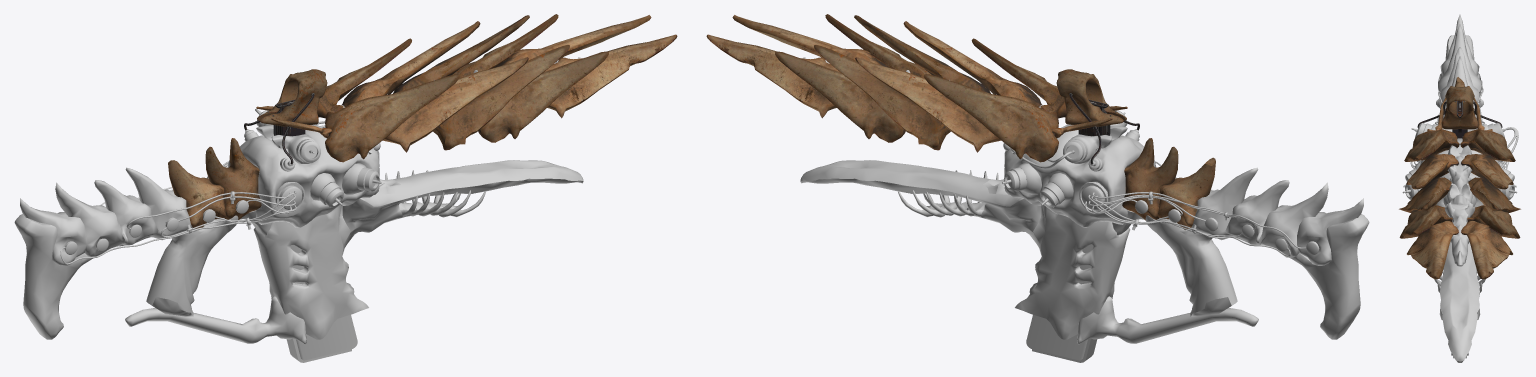
The model's file is onethousandvoices.obj.
The picture shows the model from 3 angles, left to right: view 1: azimuth 30°, elevation 25°; view 2: azimuth 150°, elevation 25°; view 3: azimuth 270°, elevation 25°; orthographic projection. The views are drawn at different scales.
Visible parts, largest first — view 1: Mesh_0000.rip, Mesh_0002.rip_Mesh_0002.rip.001, Mesh_0003.rip_Mesh_0003.rip.001, Mesh_0001.rip_Mesh_0001.rip.001; view 2: Mesh_0000.rip, Mesh_0003.rip_Mesh_0003.rip.001, Mesh_0002.rip_Mesh_0002.rip.001, Mesh_0001.rip_Mesh_0001.rip.001; view 3: Mesh_0000.rip, Mesh_0002.rip_Mesh_0002.rip.001, Mesh_0003.rip_Mesh_0003.rip.001, Mesh_0001.rip_Mesh_0001.rip.001.
Boxes of the visible parts, x1,y1,x2,y2 form: Mesh_0000.rip: (14, 57, 583, 362); Mesh_0002.rip_Mesh_0002.rip.001: (325, 34, 677, 162); Mesh_0003.rip_Mesh_0003.rip.001: (317, 14, 651, 118); Mesh_0001.rip_Mesh_0001.rip.001: (168, 69, 331, 228); Mesh_0000.rip: (800, 57, 1369, 362); Mesh_0003.rip_Mesh_0003.rip.001: (706, 34, 1058, 162); Mesh_0002.rip_Mesh_0002.rip.001: (732, 14, 1066, 118); Mesh_0001.rip_Mesh_0001.rip.001: (1052, 69, 1215, 229); Mesh_0000.rip: (1402, 14, 1518, 362); Mesh_0002.rip_Mesh_0002.rip.001: (1399, 129, 1459, 279); Mesh_0003.rip_Mesh_0003.rip.001: (1460, 129, 1520, 279); Mesh_0001.rip_Mesh_0001.rip.001: (1417, 77, 1502, 138).
Bounding box in the file's own units: 0.8424 × 0.3563 × 0.158.
